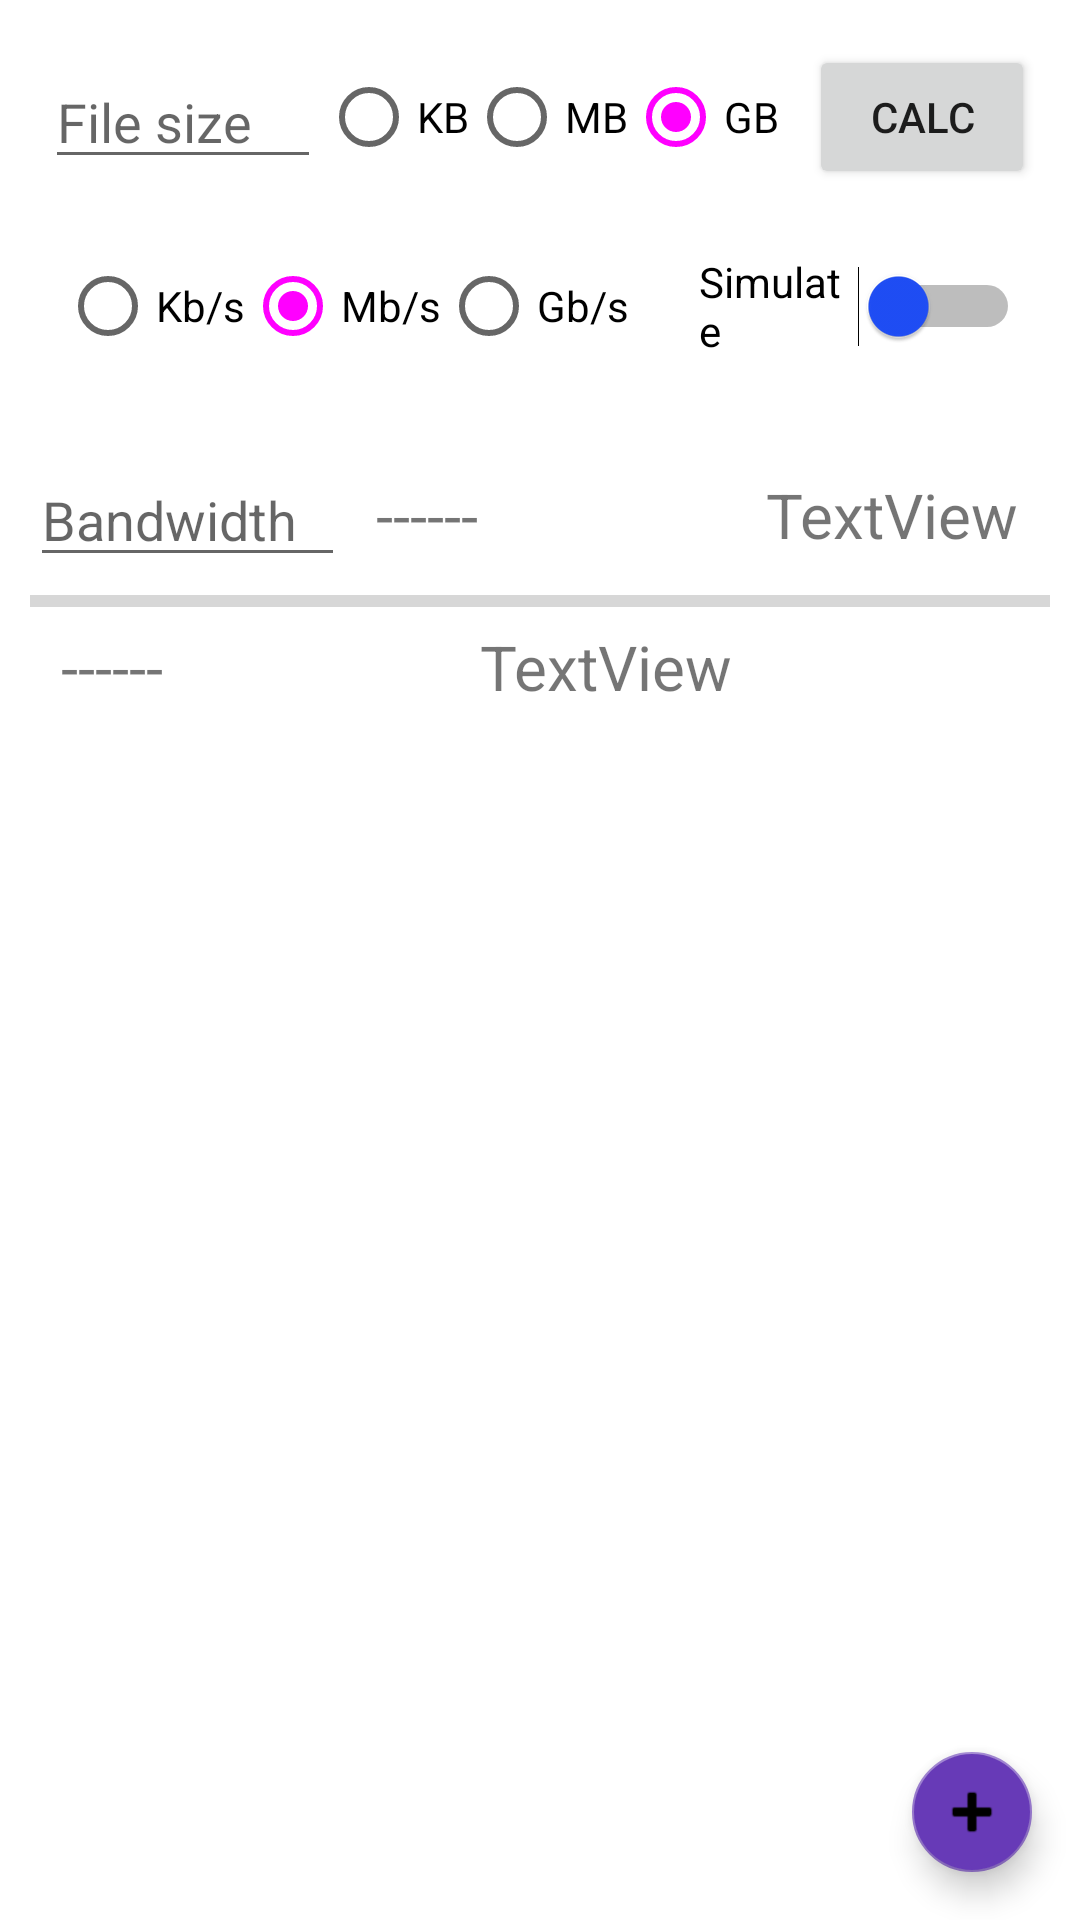

Named icons in this screenshot (1080×1920) and their bounding boxes, (x1, y1, x2, y2):
add: (912, 1752, 1035, 1884)
